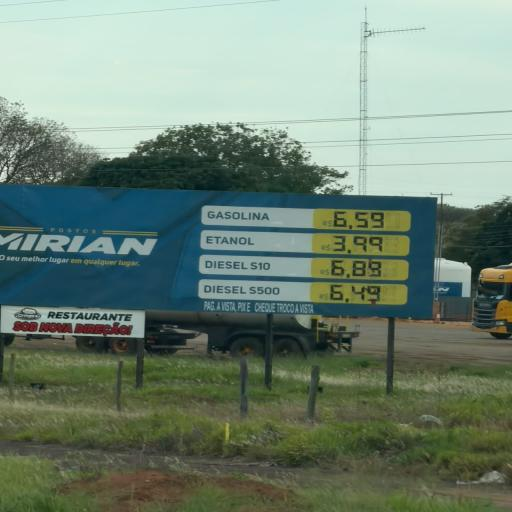ETANOL: (202, 234, 266, 250)
GASOLINA C: (201, 206, 277, 229)
S10: (203, 256, 283, 275)
S500: (202, 280, 291, 298)
placa: (0, 183, 437, 320)
preco: (333, 209, 395, 231), (329, 282, 384, 305), (329, 257, 383, 280), (332, 233, 387, 255)
